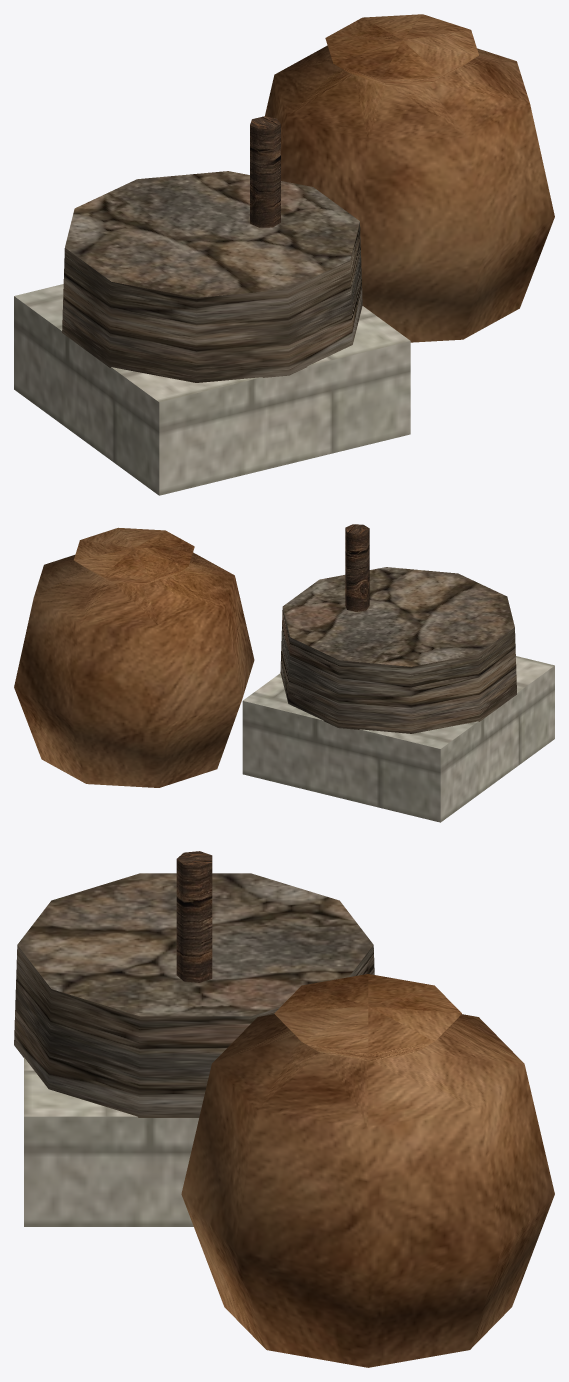
File: periodFlour.glb
3 renders of one model, top to bottom at view 1: azimuth 30°, elevation 25°; view 2: azimuth 150°, elevation 25°; view 3: azimuth 270°, elevation 25°, orthographic. The views are drawn at different scales.
Parts seen in each view (by area): view 1: part_2, part_0, part_3, part_1; view 2: part_2, part_0, part_3, part_1; view 3: part_2, part_0, part_3, part_1.
Boxes of the visible parts, <box> form: part_2: <box>265,14,554,342</box>; part_0: <box>62,171,362,382</box>; part_3: <box>14,284,410,495</box>; part_1: <box>250,116,280,227</box>; part_2: <box>14,527,254,787</box>; part_0: <box>280,567,516,733</box>; part_3: <box>242,656,554,822</box>; part_1: <box>345,524,369,611</box>; part_2: <box>181,974,554,1367</box>; part_0: <box>14,873,374,1117</box>; part_3: <box>24,1057,198,1226</box>; part_1: <box>176,851,212,982</box>.
Size of the model in its own units: 0.6487 by 0.326 by 0.4888.
4 materials, 4 textured.
